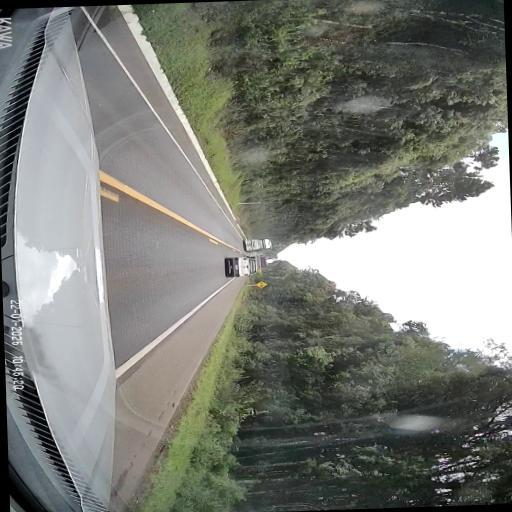A-27: (254, 281, 266, 288)
